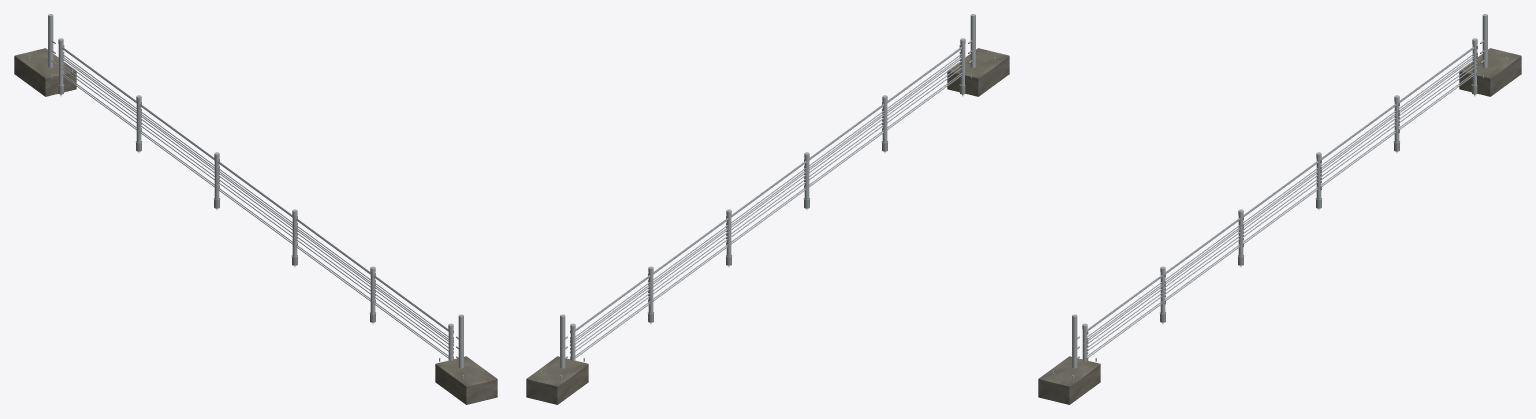
3 renders of one model, left to right at view 1: azimuth 30°, elevation 25°; view 2: azimuth 150°, elevation 25°; view 3: azimuth 330°, elevation 25°, orthographic.
Parts seen in each view (by area): view 1: jp-exp-wire-rope, opt_ropes_5, opt_ropes_4, opt_ropes_3; view 2: jp-exp-wire-rope, opt_ropes_5, opt_ropes_4, opt_ropes_3; view 3: jp-exp-wire-rope, opt_ropes_5, opt_ropes_4, opt_ropes_3.
Boxes of the visible parts, bbox=[...] form: jp-exp-wire-rope: bbox=[14, 14, 497, 404]; opt_ropes_5: bbox=[62, 44, 453, 359]; opt_ropes_4: bbox=[62, 46, 453, 358]; opt_ropes_3: bbox=[62, 46, 453, 353]; jp-exp-wire-rope: bbox=[526, 14, 1009, 404]; opt_ropes_5: bbox=[570, 44, 961, 359]; opt_ropes_4: bbox=[570, 48, 961, 358]; opt_ropes_3: bbox=[570, 46, 961, 353]; jp-exp-wire-rope: bbox=[1038, 14, 1521, 404]; opt_ropes_5: bbox=[1086, 45, 1477, 360]; opt_ropes_4: bbox=[1086, 47, 1477, 359]; opt_ropes_3: bbox=[1086, 47, 1477, 354].
Bounding box in the file's own units: 0.7 × 1.56 × 17.4.
5 materials, 1 textured.
